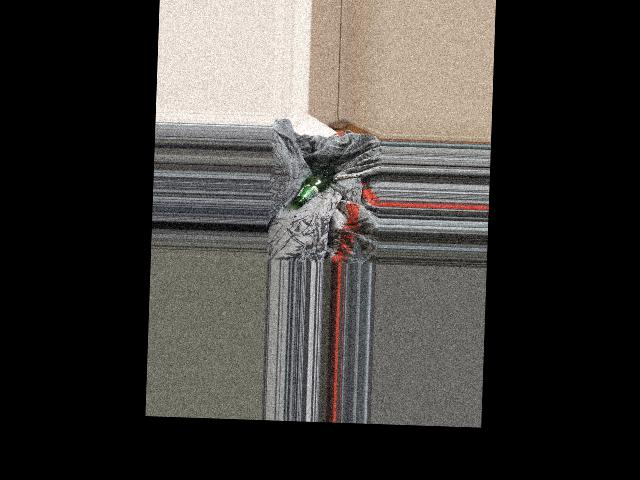beer: (292, 165, 335, 209)
